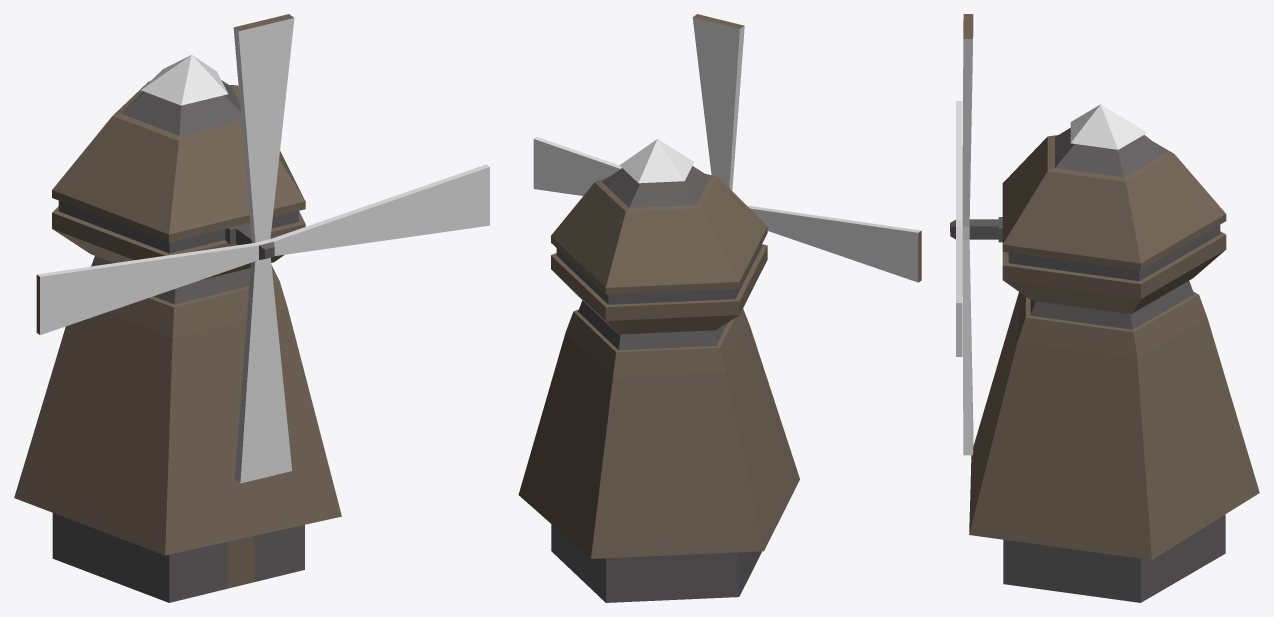
File: Windmill.fbx
The picture shows the model from 3 angles, left to right: view 1: azimuth 30°, elevation 25°; view 2: azimuth 150°, elevation 25°; view 3: azimuth 270°, elevation 25°; orthographic projection. The views are drawn at different scales.
Parts seen in each view (by area): view 1: pCylinder1; view 2: pCylinder1; view 3: pCylinder1.
Part boxes in pixels (x1=…): pCylinder1: x1=14, y1=14, x2=489, y2=602; pCylinder1: x1=518, y1=14, x2=921, y2=602; pCylinder1: x1=950, y1=14, x2=1259, y2=602.
Bounding box in the file's own units: 25.66 × 31.38 × 16.6.
